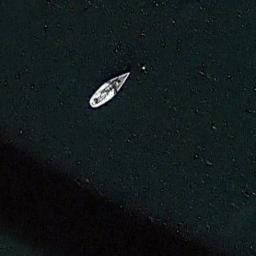boat: (88, 70, 130, 108)
